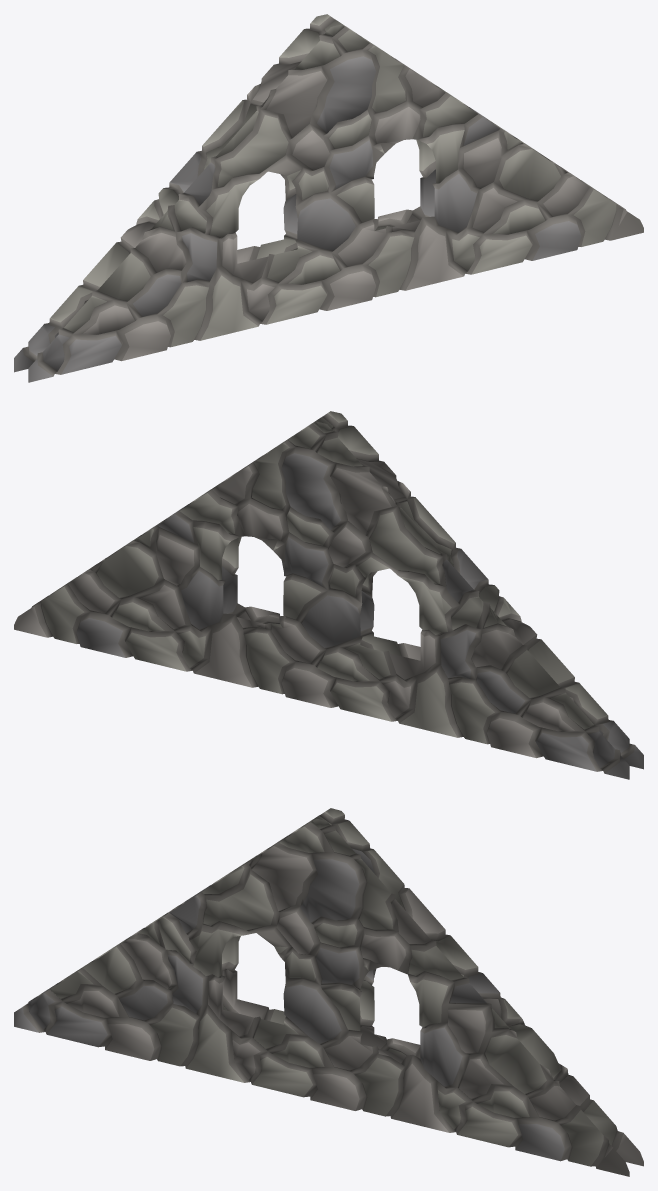
The model's file is rpgpp_ag_roof_end_01_9x4_wall_window_03c.fbx.
3 views of the same model, one above another, from view 1: azimuth 30°, elevation 25°; view 2: azimuth 150°, elevation 25°; view 3: azimuth 330°, elevation 25° (orthographic).
Parts seen in each view (by area): view 1: rpgpp_ag_roof_end_01_9x4_wall_window_03c; view 2: rpgpp_ag_roof_end_01_9x4_wall_window_03c; view 3: rpgpp_ag_roof_end_01_9x4_wall_window_03c.
Part boxes in pixels (x1=…): rpgpp_ag_roof_end_01_9x4_wall_window_03c: x1=14, y1=14, x2=643, y2=382; rpgpp_ag_roof_end_01_9x4_wall_window_03c: x1=14, y1=411, x2=643, y2=779; rpgpp_ag_roof_end_01_9x4_wall_window_03c: x1=14, y1=808, x2=643, y2=1176.
Bounding box in the file's own units: 9 × 3.94 × 0.4229.
